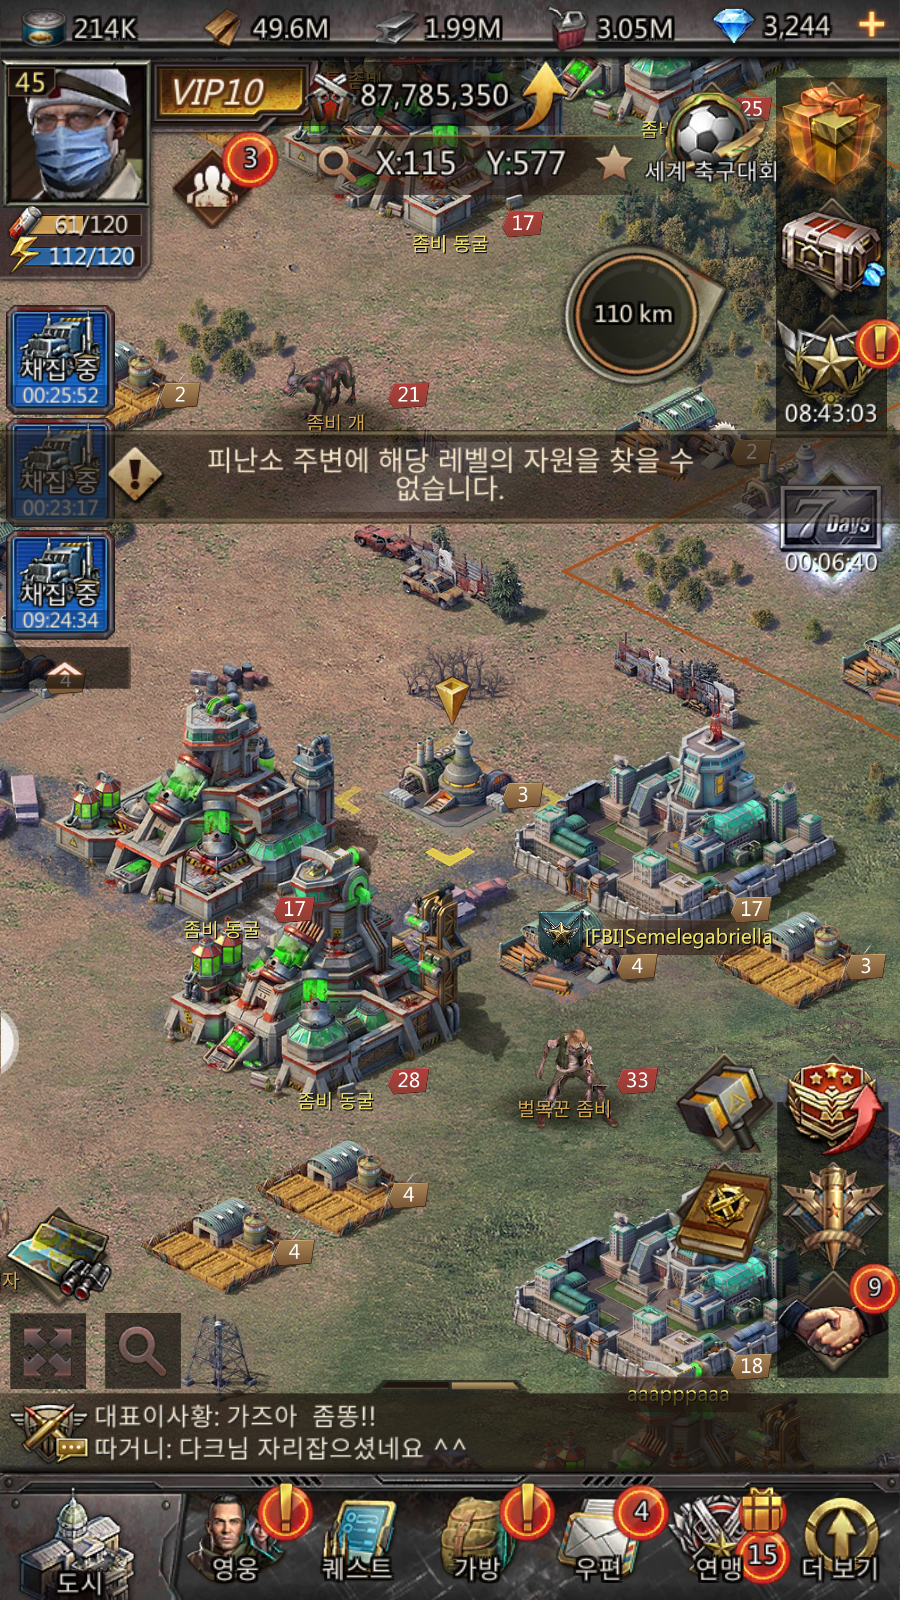city: (5, 1496, 175, 1600)
empty_steel: (316, 665, 605, 884)
not_found_rss: (91, 433, 733, 522)
open_panel: (96, 1305, 198, 1393)
troops_cnt_3: (169, 118, 285, 240)
